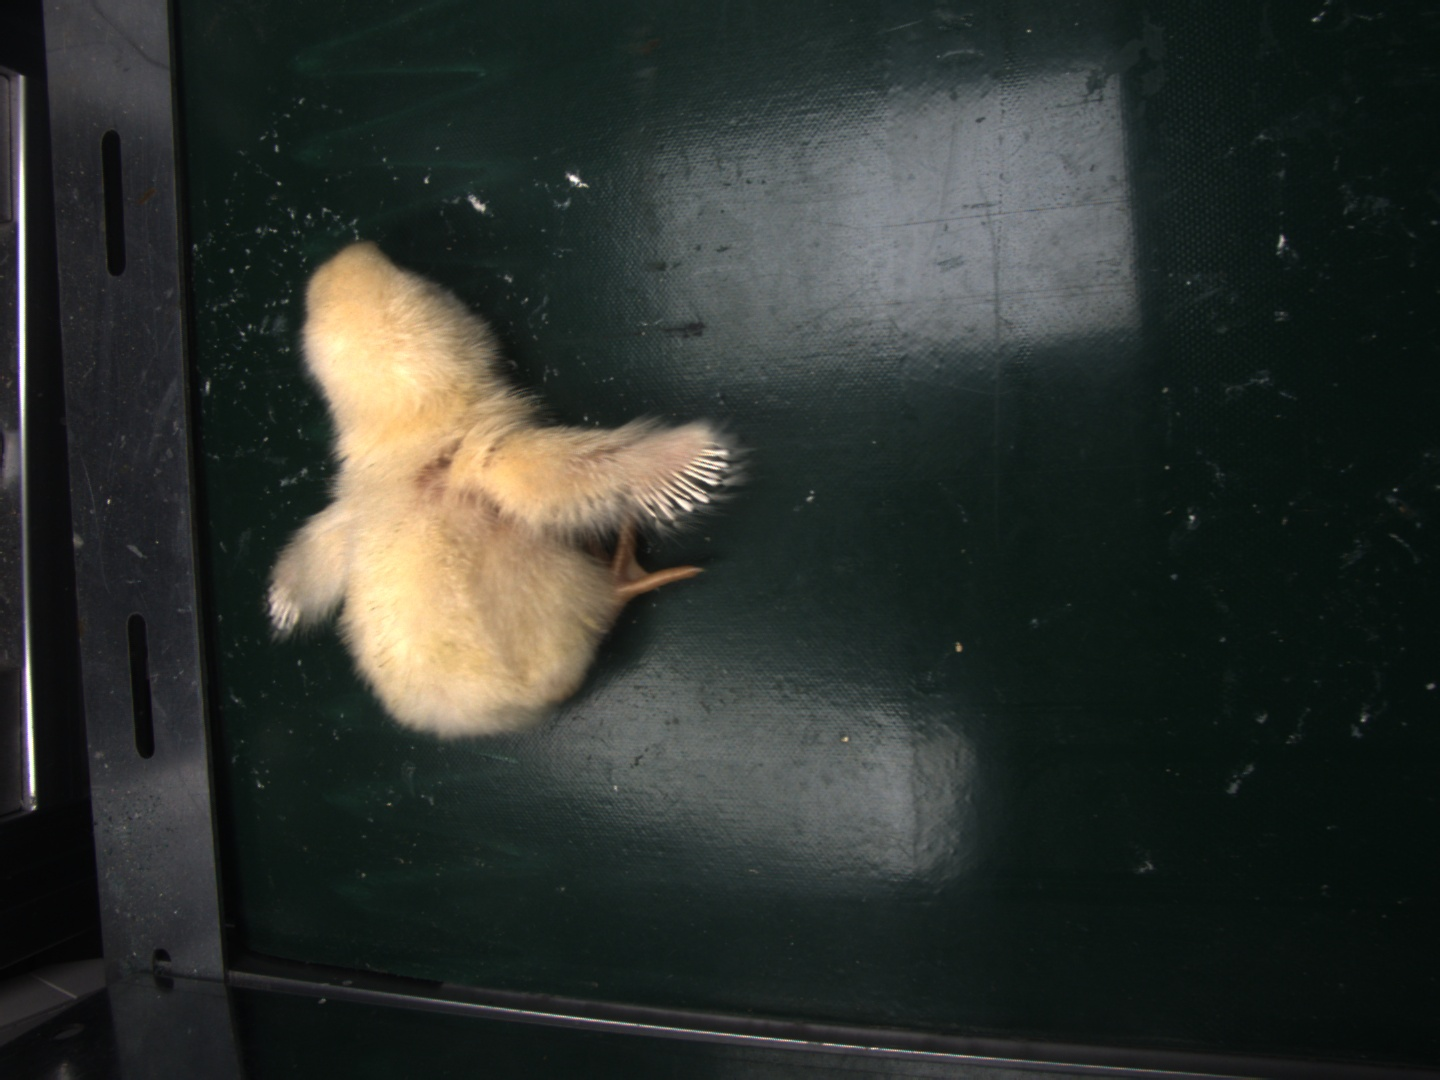male: (647, 442, 731, 517)
